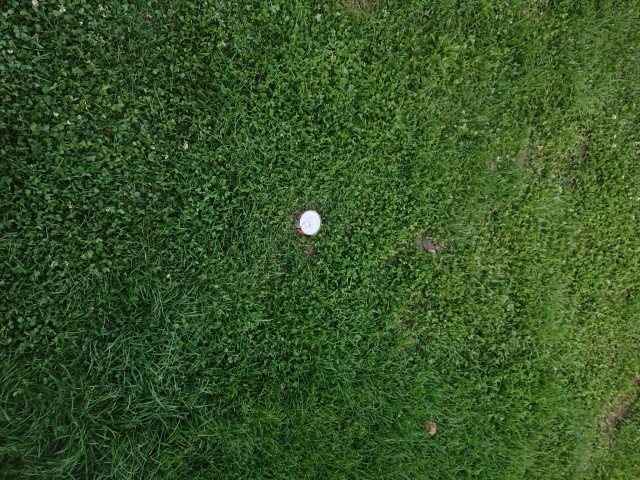Podravka Luncheon Meat 150g: (292, 208, 323, 238)
